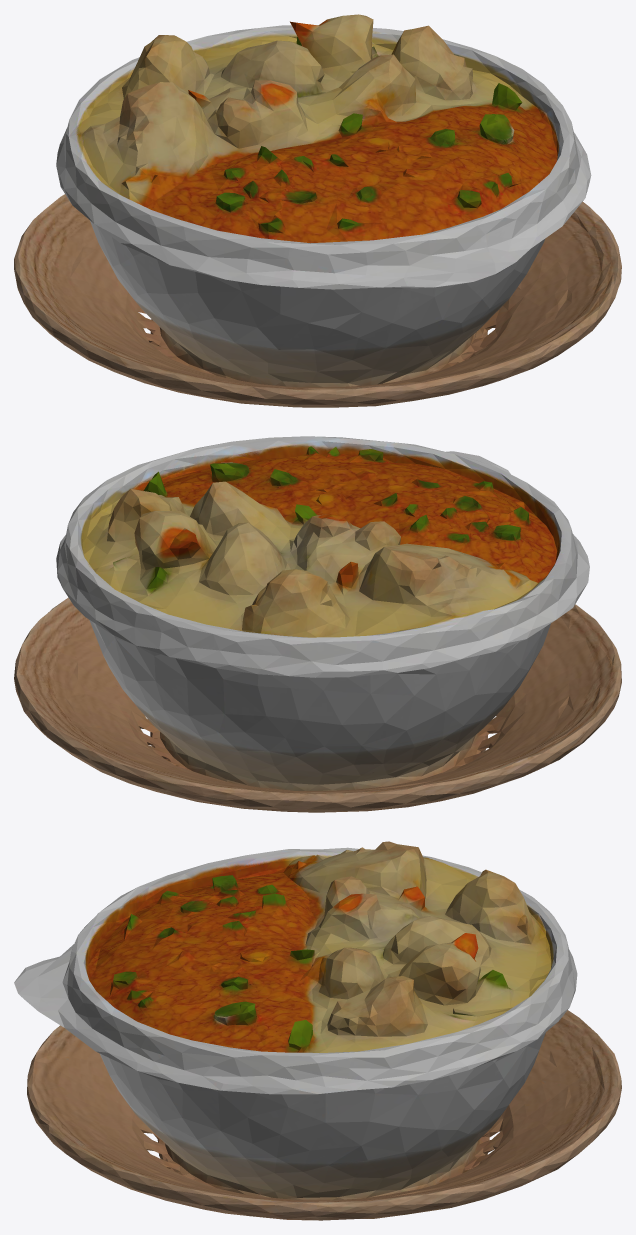
File: butterchicken.glb
The picture shows the model from 3 angles, top to bottom: view 1: azimuth 30°, elevation 25°; view 2: azimuth 150°, elevation 25°; view 3: azimuth 270°, elevation 25°; orthographic projection. The views are drawn at different scales.
Parts seen in each view (by area): view 1: tripo_node_c2e72ce5-3207-4692-adee-c6b4894a415b; view 2: tripo_node_c2e72ce5-3207-4692-adee-c6b4894a415b; view 3: tripo_node_c2e72ce5-3207-4692-adee-c6b4894a415b.
Part boxes in pixels (x1=…): tripo_node_c2e72ce5-3207-4692-adee-c6b4894a415b: x1=14, y1=14, x2=621, y2=407; tripo_node_c2e72ce5-3207-4692-adee-c6b4894a415b: x1=14, y1=436, x2=621, y2=812; tripo_node_c2e72ce5-3207-4692-adee-c6b4894a415b: x1=14, y1=841, x2=621, y2=1220.
Bounding box in the file's own units: 0.9719 × 0.444 × 0.9934.
Materials: 1 (1 with a texture image).
